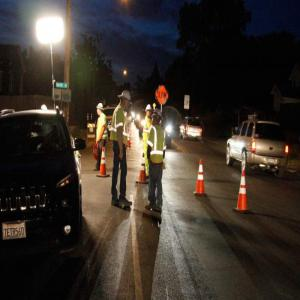white: (118, 90, 132, 111), (153, 109, 163, 128), (97, 102, 105, 116), (146, 104, 153, 119)
